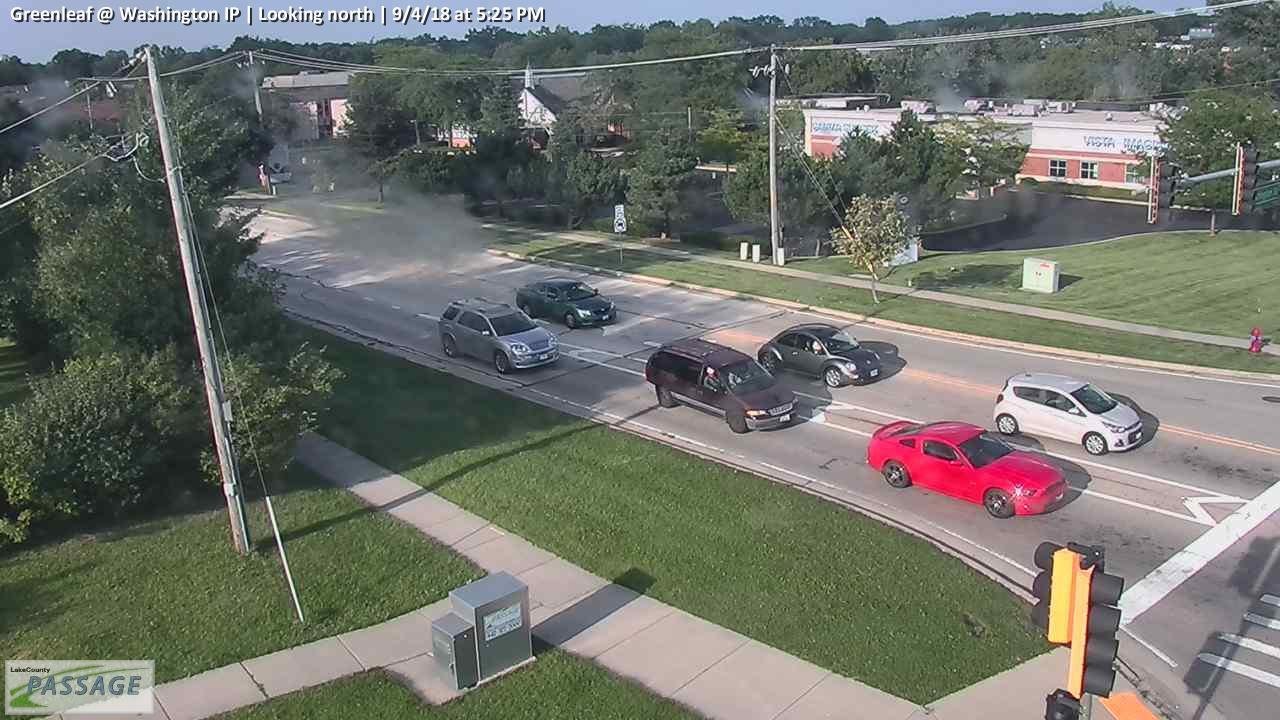SUV: (643, 338, 800, 433), (992, 370, 1144, 456), (439, 297, 561, 373)
Sedan: (868, 420, 1066, 518), (758, 323, 882, 386), (516, 278, 619, 331)
